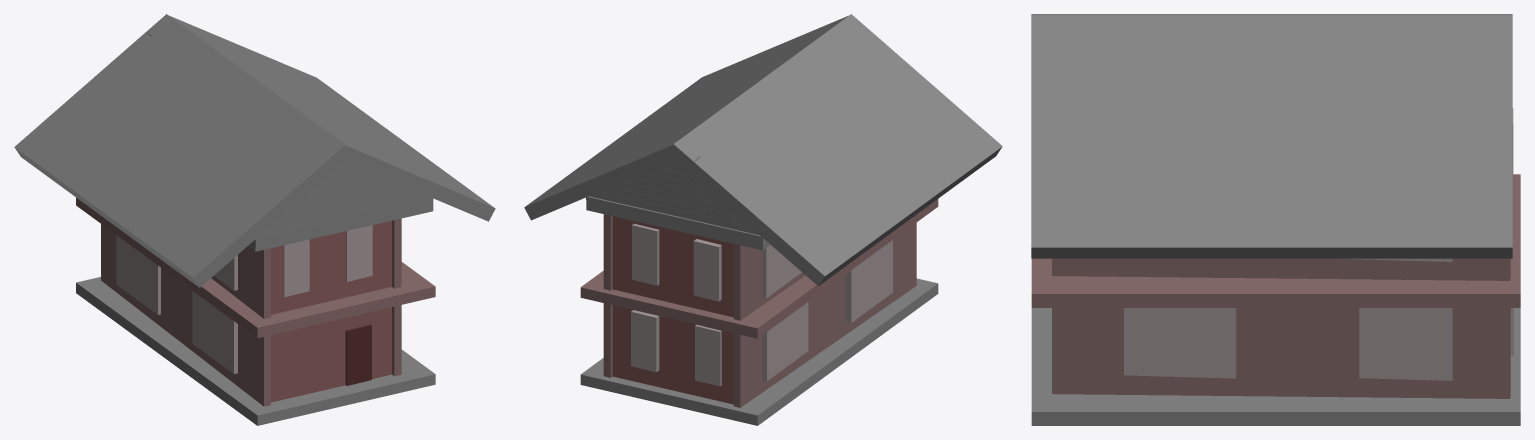
Rendered from double house.fbx.
The picture shows the model from 3 angles, left to right: view 1: azimuth 30°, elevation 25°; view 2: azimuth 150°, elevation 25°; view 3: azimuth 270°, elevation 25°; orthographic projection. The views are drawn at different scales.
Visible parts, largest first — view 1: pCube161; view 2: pCube161; view 3: pCube161.
Boxes of the visible parts, x1,y1,x2,y2 form: pCube161: (14,14,495,425); pCube161: (524,14,1002,425); pCube161: (1031,14,1520,425).
Bounding box in the file's own units: 18.79 × 15.54 × 19.56.
